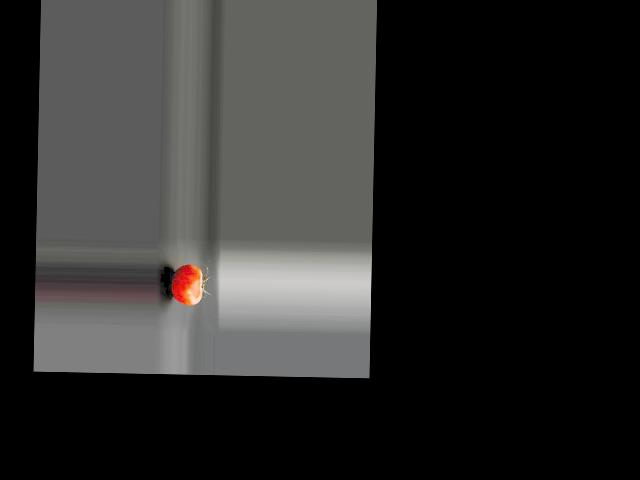tomato: (171, 264, 202, 306)
